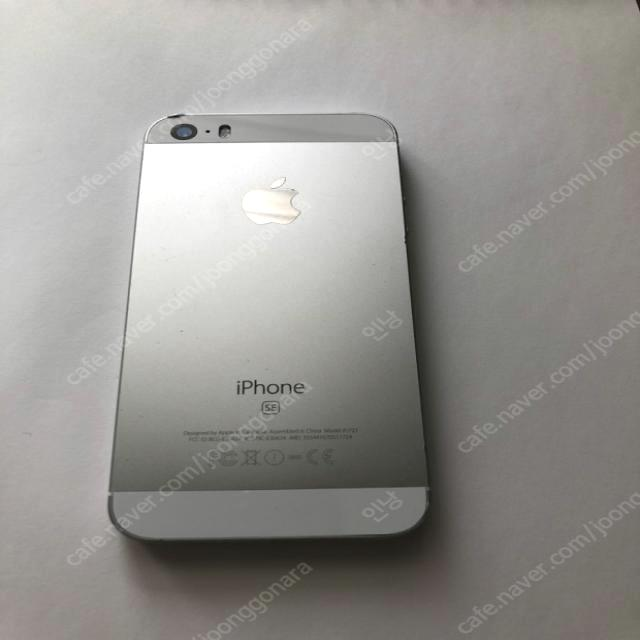phone: (106, 106, 433, 549)
